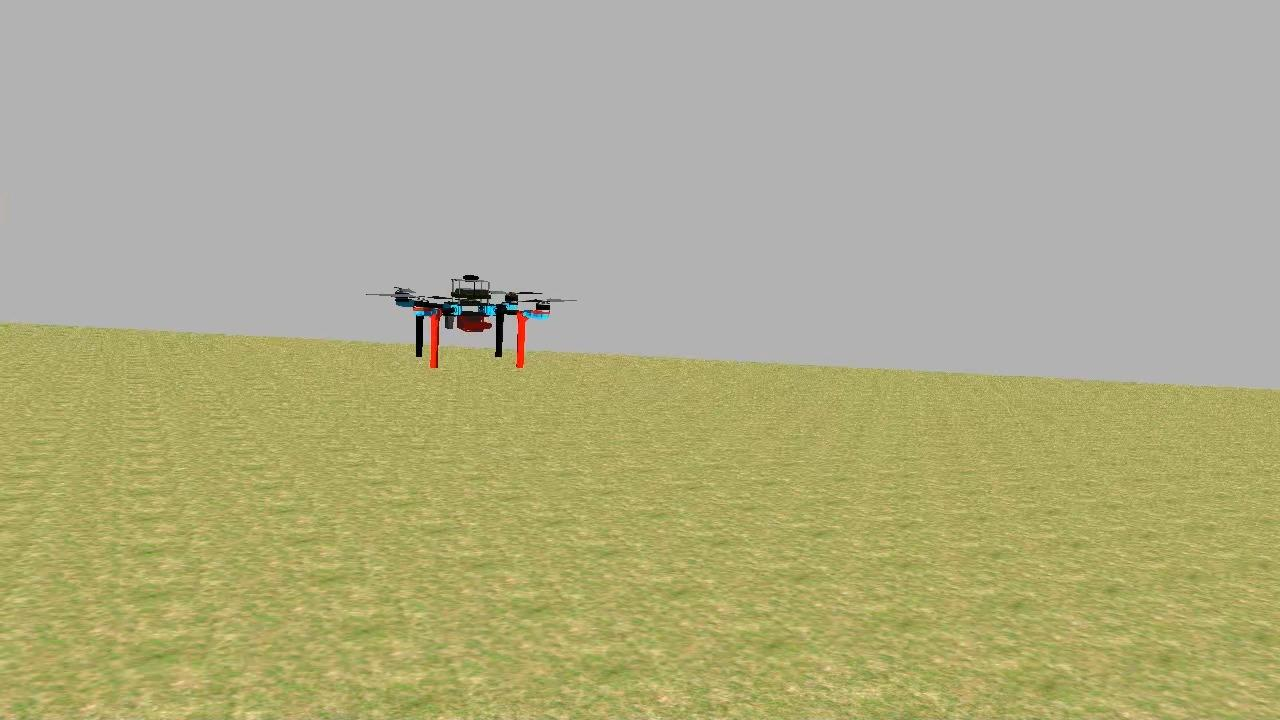UAV: (394, 270, 558, 368)
